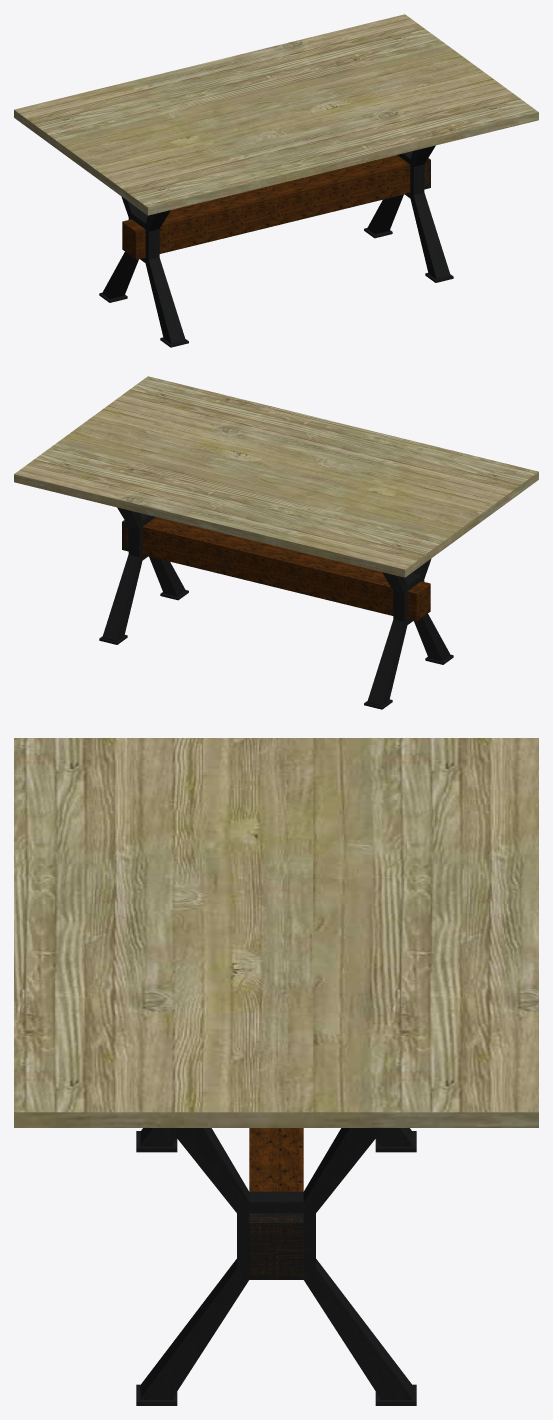
3 renders of one model, top to bottom at view 1: azimuth 30°, elevation 25°; view 2: azimuth 150°, elevation 25°; view 3: azimuth 270°, elevation 25°, orthographic. The views are drawn at different scales.
Parts seen in each view (by area): view 1: Model; view 2: Model; view 3: Model.
Boxes of the visible parts, <box> form: Model: <box>14,14,538,347</box>; Model: <box>14,376,538,709</box>; Model: <box>14,738,538,1405</box>.
Size of the model in its own units: 1793 by 771 by 1063.
3 materials, 3 textured.
